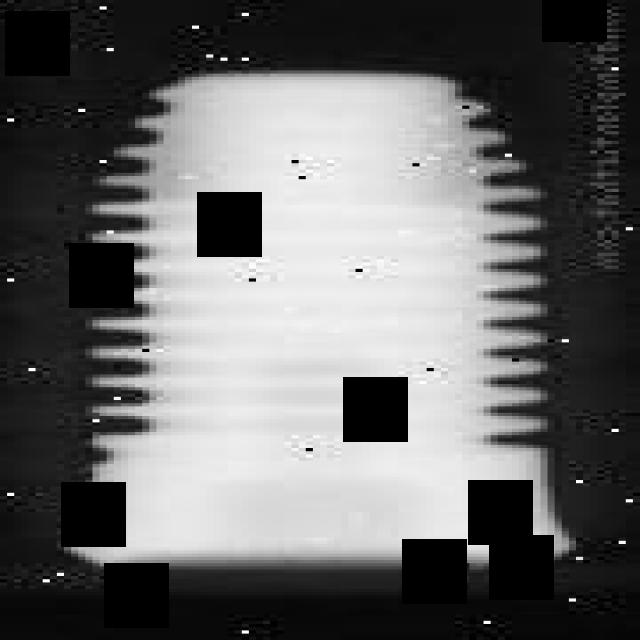Osstem Implant: (64, 67, 576, 566)
